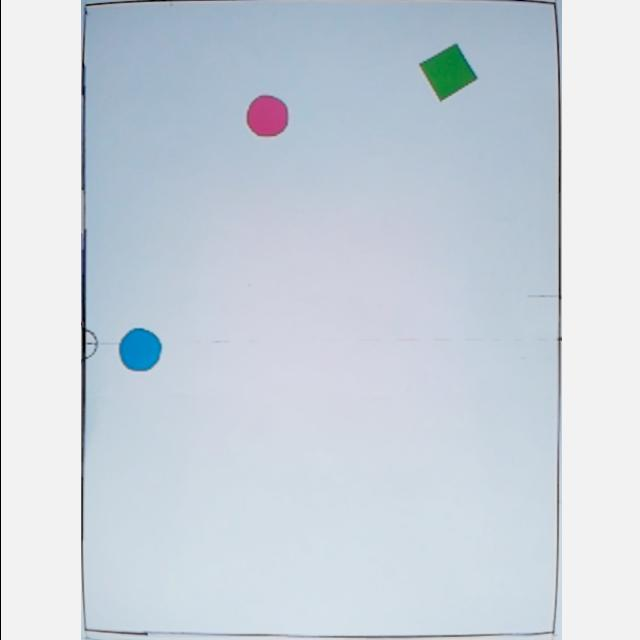blueCircle: (114, 327, 160, 373)
greenSquare: (414, 42, 476, 104)
pinkCircle: (244, 94, 288, 138)
